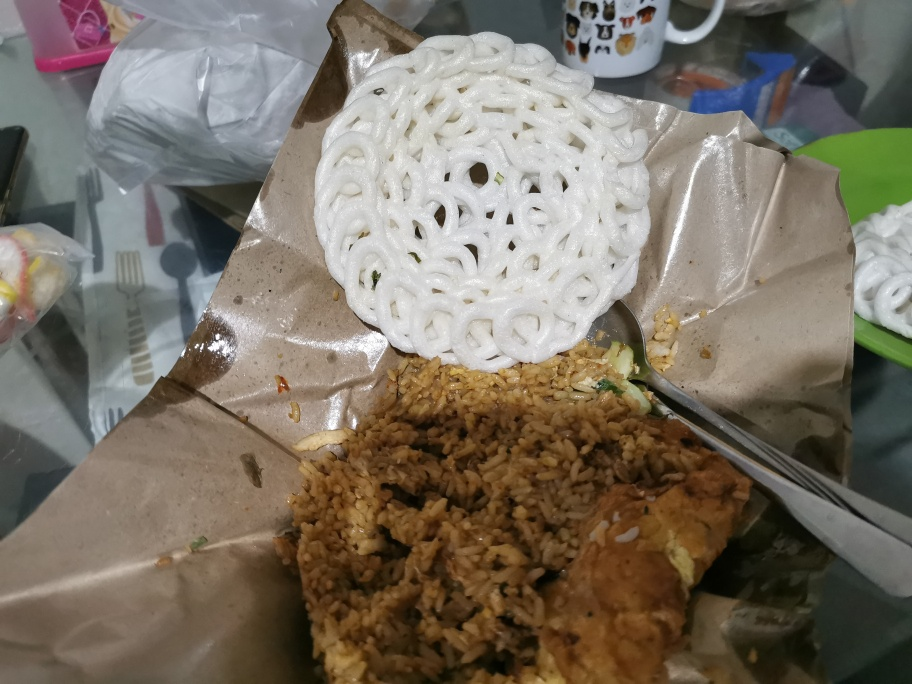kerupuk: (313, 32, 649, 355)
nasi goreng: (295, 355, 730, 684)
